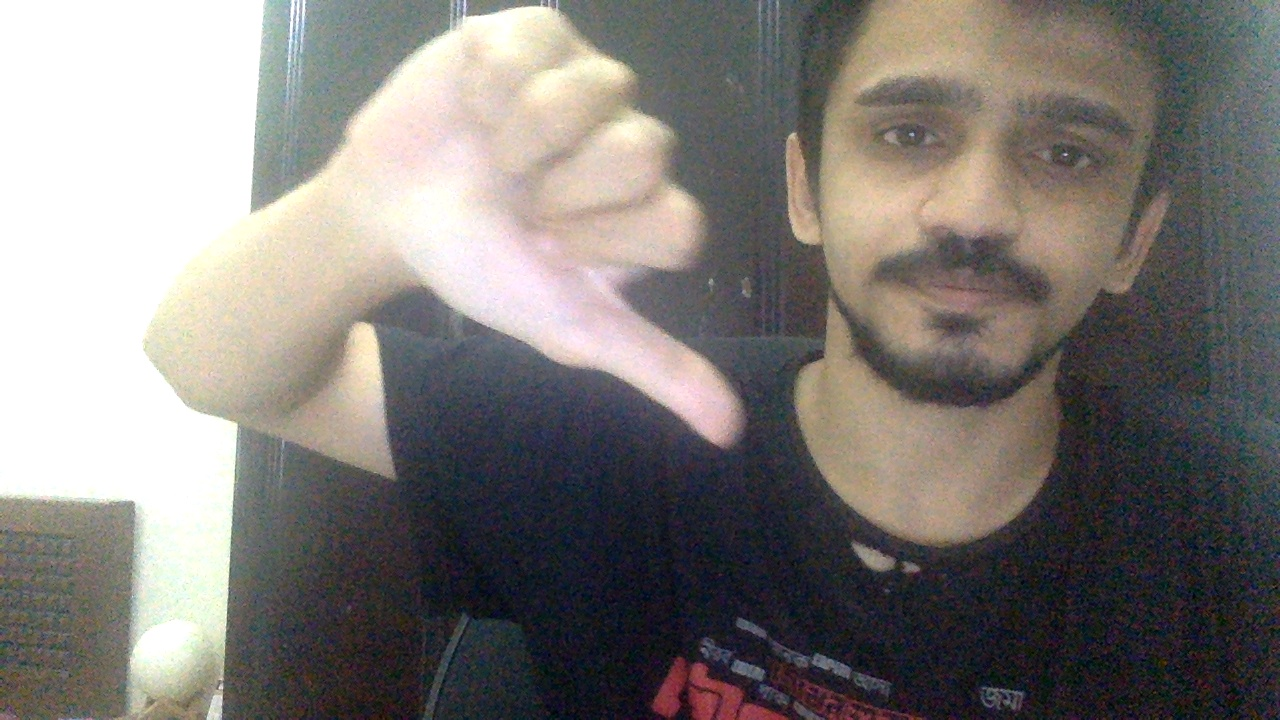bad: (349, 6, 757, 447)
